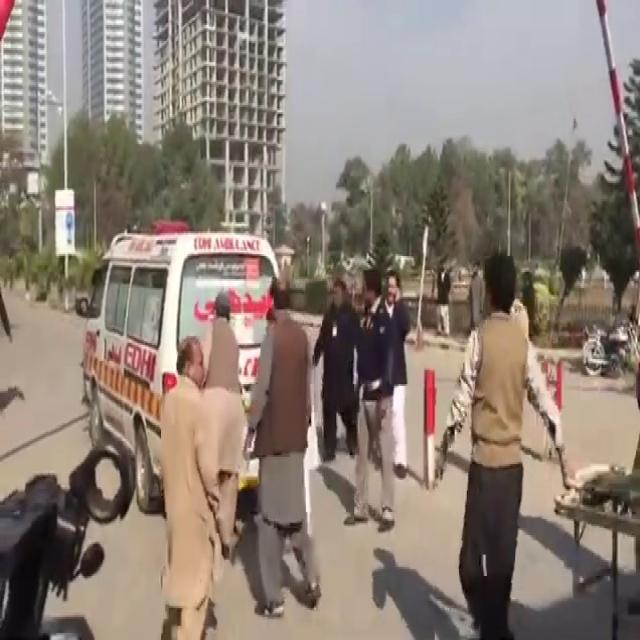ambulance: (81, 244, 318, 512)
